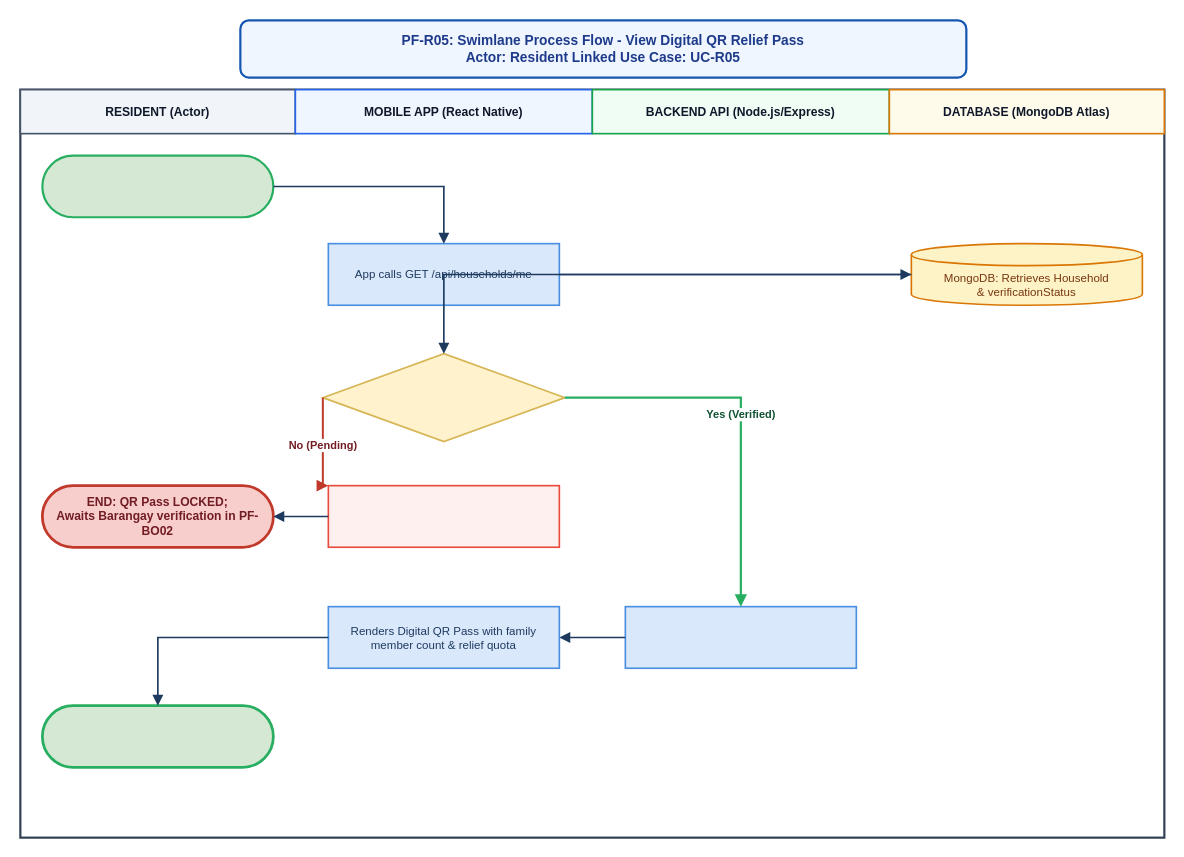
Some shapes in this 1184 by 857 pixel diagram are drawn without their labels. Here are the shapes that lost their labels. From the top down, the centre of each, then its label:
the point at 157,186: START: Opens Home Screen
the point at 443,397: Household status = "verified" by Barangay?
the point at 443,516: Display "Verification Pending" banner; QR code blurred/hidden
the point at 740,637: Generates secure cryptographic QR payload with household hash
the point at 157,736: END: QR Pass ACTIVE & ready for Field Staff scan (PF-FS02)
